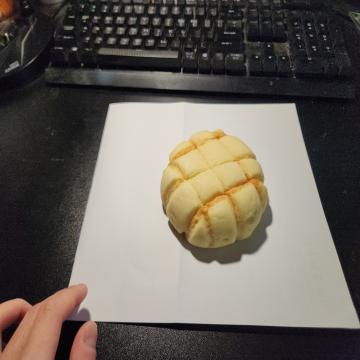melon_bread: (159, 130, 268, 250)
